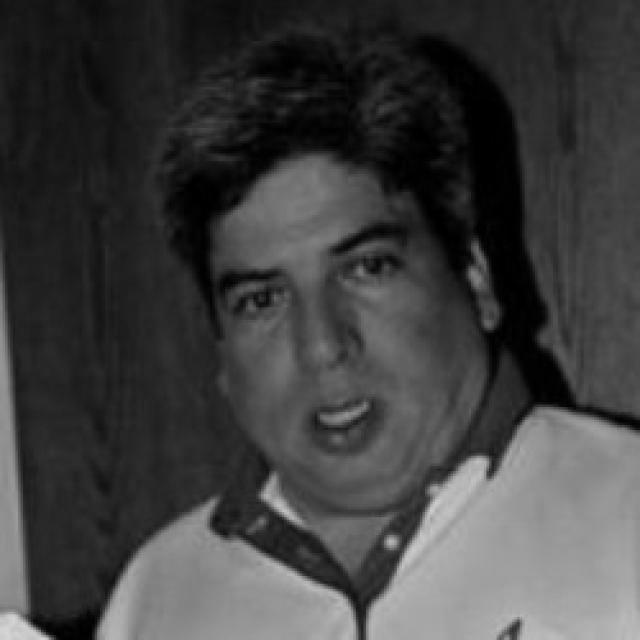real: (164, 38, 510, 528), (210, 247, 432, 318)
